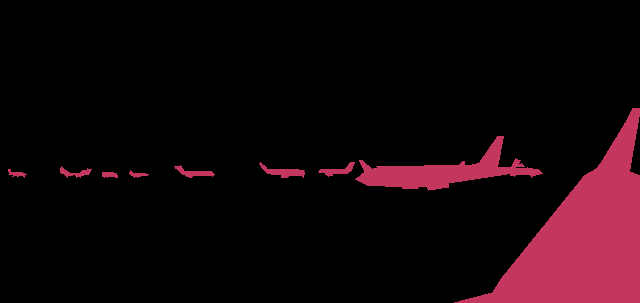Airplane: (450, 108, 640, 303), (355, 136, 524, 190), (359, 160, 465, 172), (259, 162, 304, 178), (318, 162, 354, 176), (174, 165, 214, 177), (497, 167, 542, 177), (60, 166, 91, 178), (129, 170, 148, 178), (8, 169, 27, 177), (102, 172, 118, 178)
